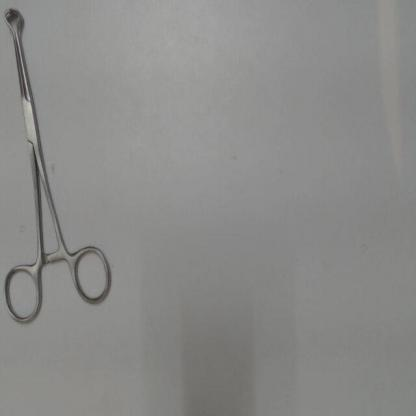Babcock Tissue Forceps: (1, 2, 114, 330)
